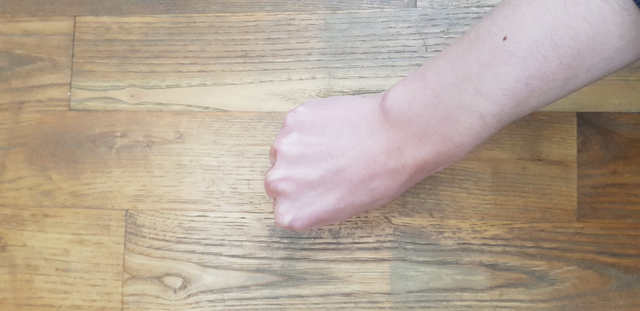Rock: (254, 60, 437, 250)
